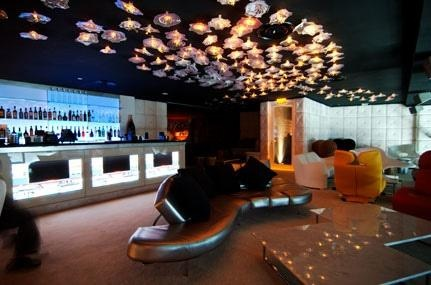chair: (334, 149, 388, 203)
sofa: (126, 161, 316, 268), (294, 151, 336, 190)
